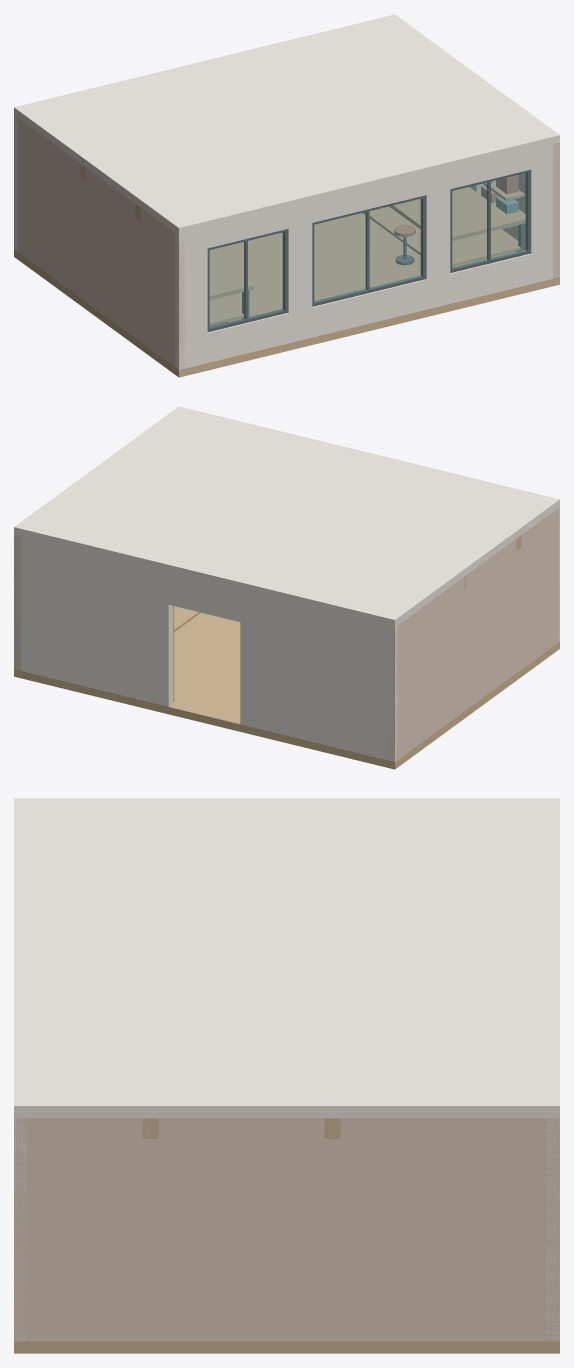
Rendered from workshop.gltf.
The picture shows the model from 3 angles, top to bottom: view 1: azimuth 30°, elevation 25°; view 2: azimuth 150°, elevation 25°; view 3: azimuth 270°, elevation 25°; orthographic projection. The views are drawn at different scales.
Parts seen in each view (by area): view 1: ceiling, wall_w, floor, wall_n_sill, window_1_glass, wall_n_header, window_2_glass, window_0_glass, wall_n_pillar_0, bench_e_top, bench_e_shelf, wall_n_pillar_2 (+10 smaller); view 2: ceiling, wall_w, wall_s_a, wall_s_b, floor, wall_s_header, wall_e; view 3: ceiling, wall_e, floor, wall_s_b, wall_n_pillar_3.
Boxes of the visible parts, x1=… form: ceiling: x1=14, y1=14, x2=559, y2=235; wall_w: x1=18, y1=118, x2=185, y2=369; floor: x1=14, y1=213, x2=559, y2=377; wall_n_sill: x1=175, y1=249, x2=552, y2=369; window_1_glass: x1=314, y1=199, x2=422, y2=302; wall_n_header: x1=175, y1=144, x2=558, y2=254; window_2_glass: x1=452, y1=173, x2=526, y2=268; window_0_glass: x1=210, y1=232, x2=284, y2=327; wall_n_pillar_0: x1=175, y1=248, x2=207, y2=339; bench_e_top: x1=389, y1=187, x2=525, y2=240; bench_e_shelf: x1=363, y1=206, x2=520, y2=266; wall_n_pillar_2: x1=425, y1=189, x2=450, y2=279; ceiling: x1=14, y1=406, x2=559, y2=627; wall_w: x1=388, y1=507, x2=559, y2=761; wall_s_a: x1=240, y1=590, x2=398, y2=761; wall_s_b: x1=14, y1=535, x2=172, y2=706; floor: x1=14, y1=612, x2=559, y2=769; wall_s_header: x1=168, y1=572, x2=240, y2=621; wall_e: x1=14, y1=534, x2=20, y2=670; ceiling: x1=14, y1=798, x2=559, y2=1118; wall_e: x1=14, y1=1118, x2=559, y2=1341; floor: x1=14, y1=1341, x2=559, y2=1353; wall_s_b: x1=546, y1=1118, x2=559, y2=1341; wall_n_pillar_3: x1=14, y1=1151, x2=27, y2=1290.
Bounding box in the file's own units: 8 × 3 × 6.
